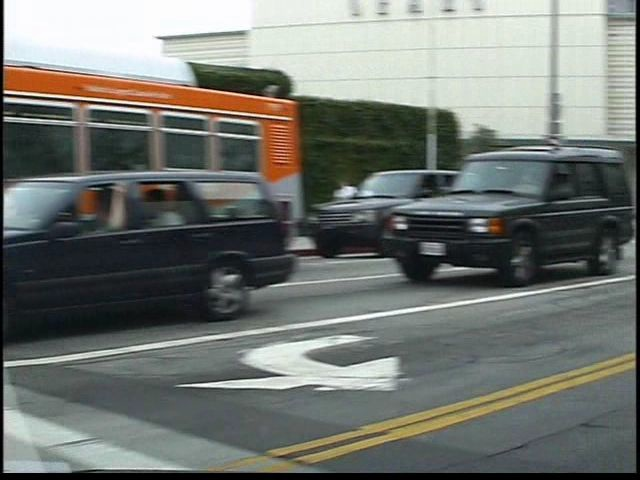person: (351, 176, 380, 244)
